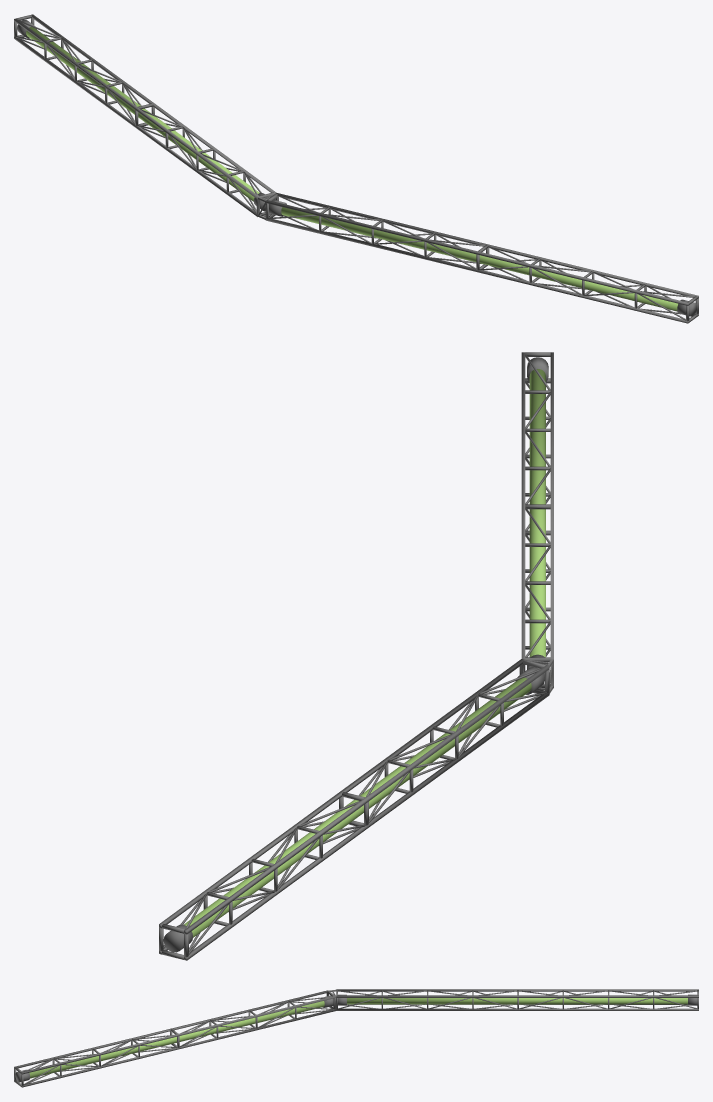
Rendered from Light_L_shape_half.fbx.
3 views of the same model, one above another, from view 1: azimuth 30°, elevation 25°; view 2: azimuth 150°, elevation 25°; view 3: azimuth 270°, elevation 25° (orthographic). The views are drawn at different scales.
Visible parts, largest first — view 1: Light_L_shape_half; view 2: Light_L_shape_half; view 3: Light_L_shape_half.
Part boxes in pixels (<box>): Light_L_shape_half: <box>14,14,698,323</box>; Light_L_shape_half: <box>159,352,553,960</box>; Light_L_shape_half: <box>14,989,698,1087</box>.
Bounding box in the file's own units: 273 × 22.5 × 947.
